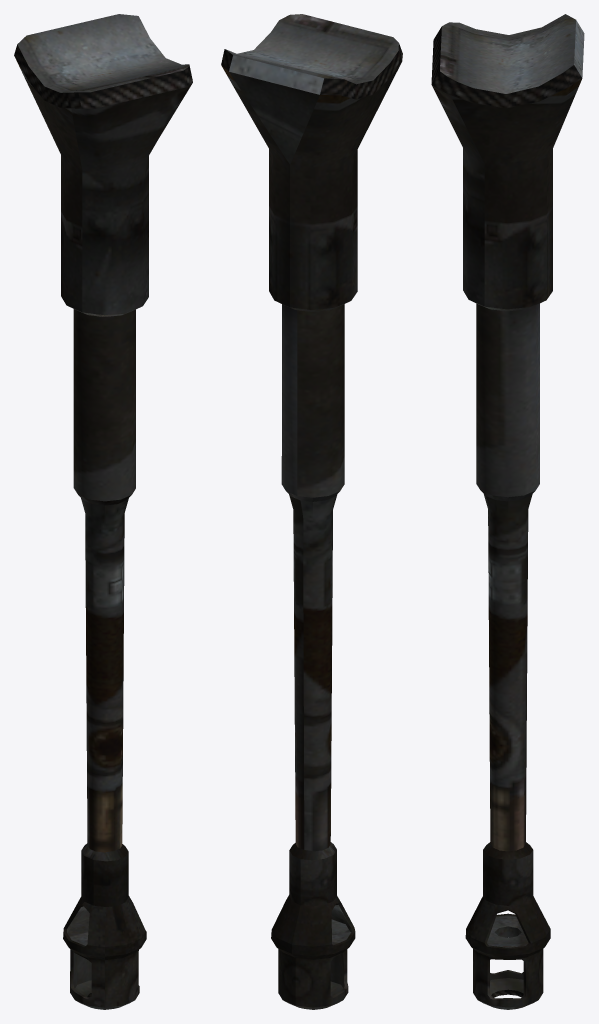
The model's file is Gun.obj.
3 views of the same model, side by side, from view 1: azimuth 30°, elevation 25°; view 2: azimuth 150°, elevation 25°; view 3: azimuth 270°, elevation 25° (orthographic).
Parts seen in each view (by area): view 1: 3D_Object_1; view 2: 3D_Object_1; view 3: 3D_Object_1.
Boxes of the visible parts, x1,y1,x2,y2 form: 3D_Object_1: (14, 14, 192, 1009); 3D_Object_1: (221, 14, 402, 1009); 3D_Object_1: (431, 14, 584, 1009).
Size of the model in its own units: 0.5464 by 4.08 by 0.5891.
1 material, 1 textured.
